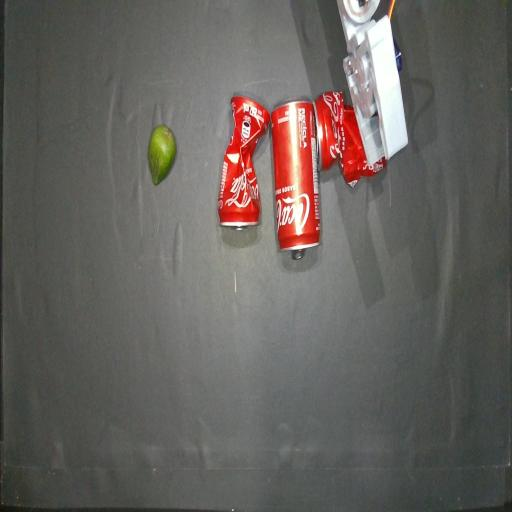higo: (148, 125, 176, 185)
lata: (271, 99, 321, 259)
lata_defectuoso: (218, 95, 270, 227), (314, 91, 385, 186)
